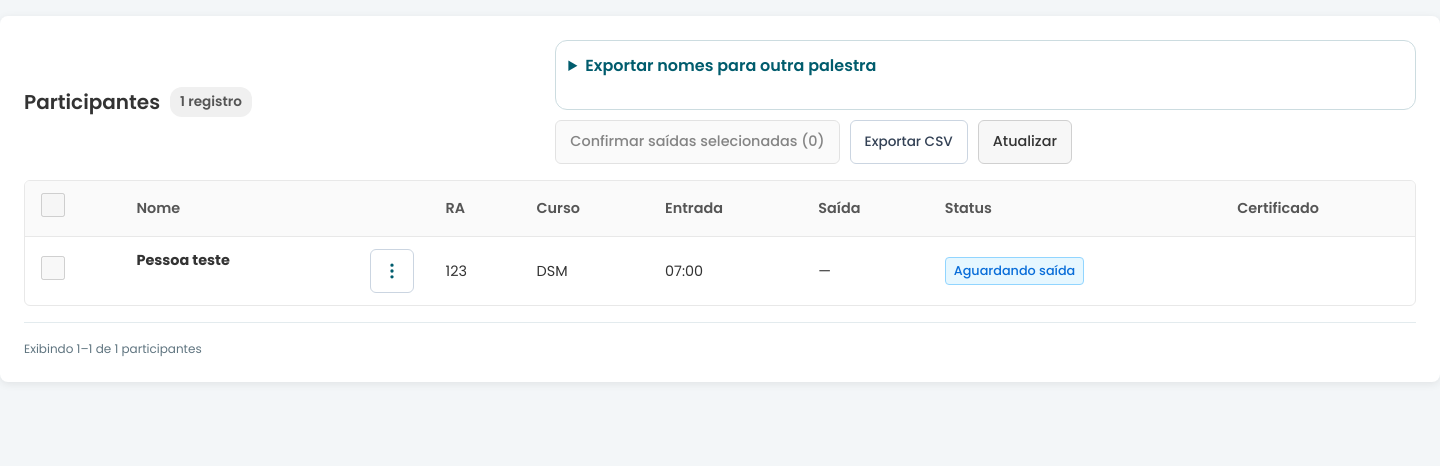
Scenario: Manual checkout from participant row › does not offer checkout for confirmed people or allow cancelled events
This screenshot has width=1440, height=466.
Click the heading named "Ações para Pessoa teste": [392, 271] box [370, 249, 414, 293]
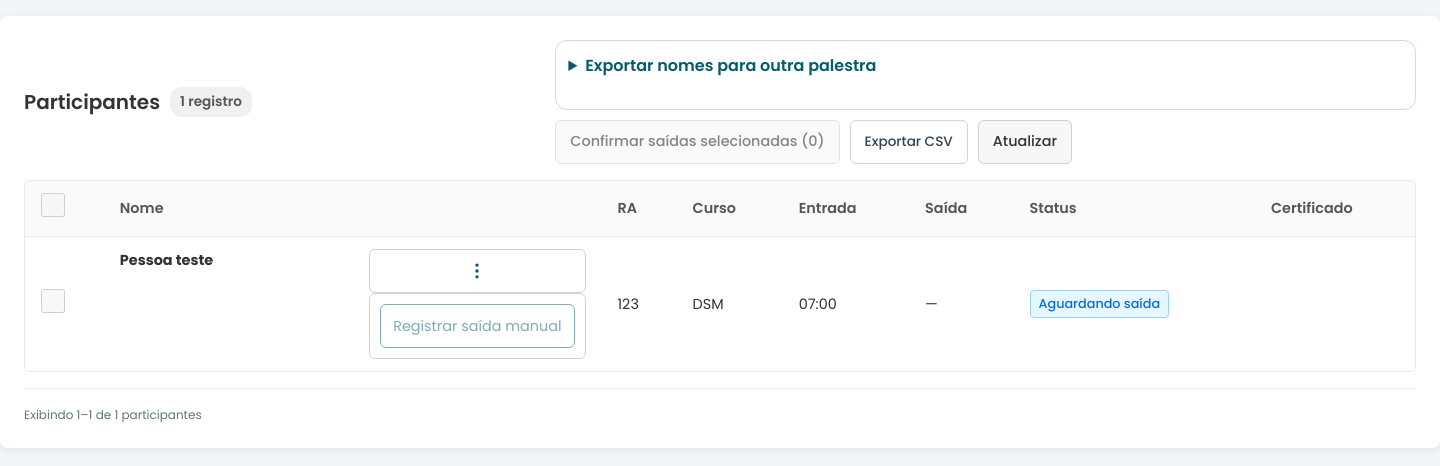
expect the button "Registrar saída manual" is disabled: met, box [380, 304, 574, 348]
